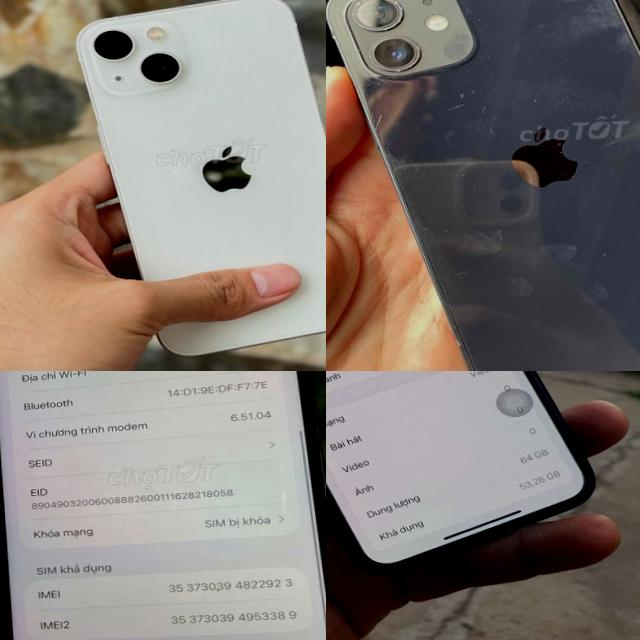gen_12_13: (326, 0, 640, 371), (75, 0, 326, 361), (0, 371, 326, 640)
gen_x_xs: (326, 371, 593, 572)
